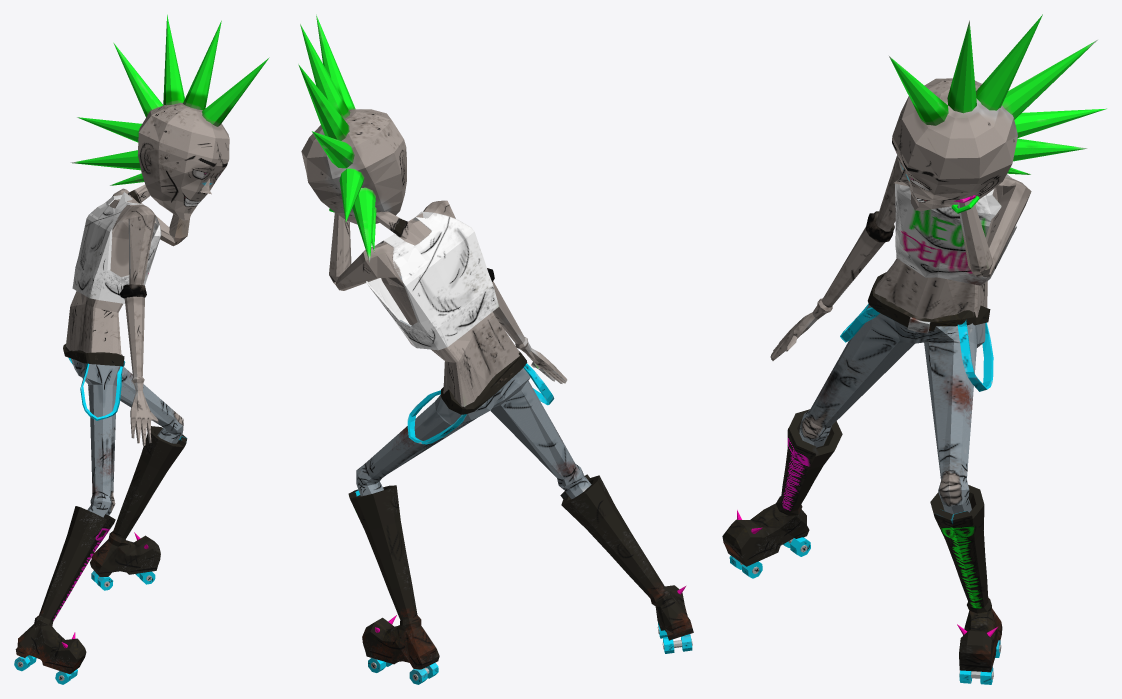
Rendered from punkAnimation_000013.obj.
3 views of the same model, side by side, from view 1: azimuth 30°, elevation 25°; view 2: azimuth 150°, elevation 25°; view 3: azimuth 270°, elevation 25° (orthographic). The views are drawn at different scales.
Visible parts, largest first — view 1: Cube.004_Cube.003; view 2: Cube.004_Cube.003; view 3: Cube.004_Cube.003.
Part boxes in pixels (<box>): Cube.004_Cube.003: <box>14,14,269,684</box>; Cube.004_Cube.003: <box>298,14,693,684</box>; Cube.004_Cube.003: <box>722,14,1106,684</box>.
Size of the model in its own units: 3.71 by 6.59 by 3.24.
